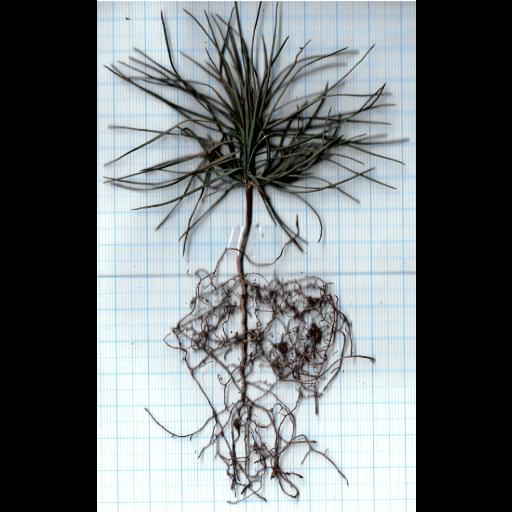flowerCedr: (105, 1, 402, 259)
rootCedr: (152, 241, 372, 503)
stemCedr: (237, 188, 252, 262)
